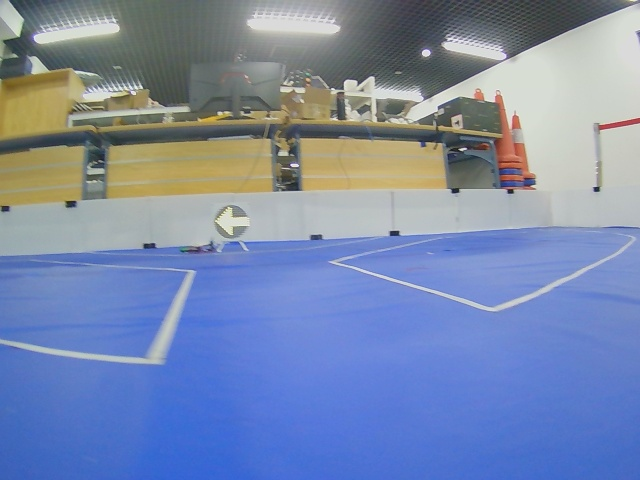left_yellow: (214, 205, 251, 239)
